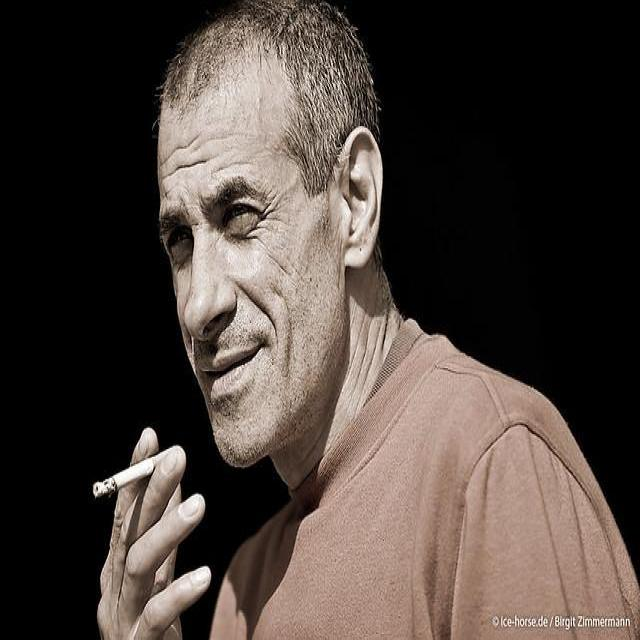Сигарета: (93, 449, 179, 508)
Тело: (96, 1, 636, 640)
